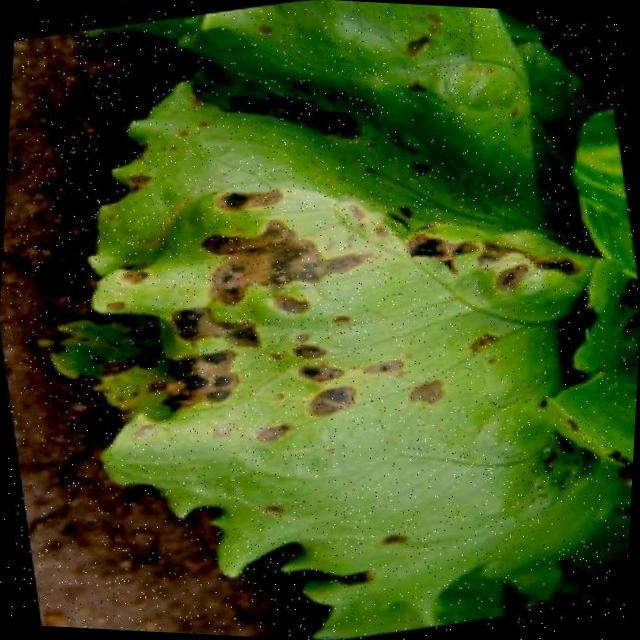Healthy: (89, 158, 606, 512)
